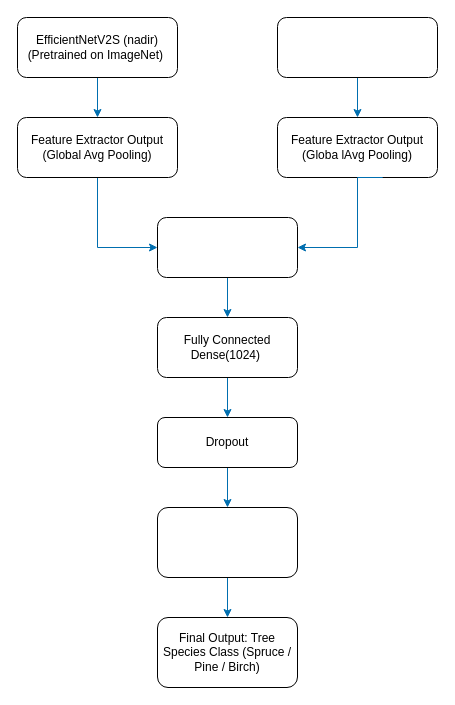
This 455x705 diagram has some shape labels left out. Each missing label, with the centre of its shape:
Concatenation Layer (Fusion): [227,247]
DenseNet121 (oblique) (Pretrained on ImageNet): [357,47]
Fully Connected Dense (3) (Softmax Output): [227,542]
